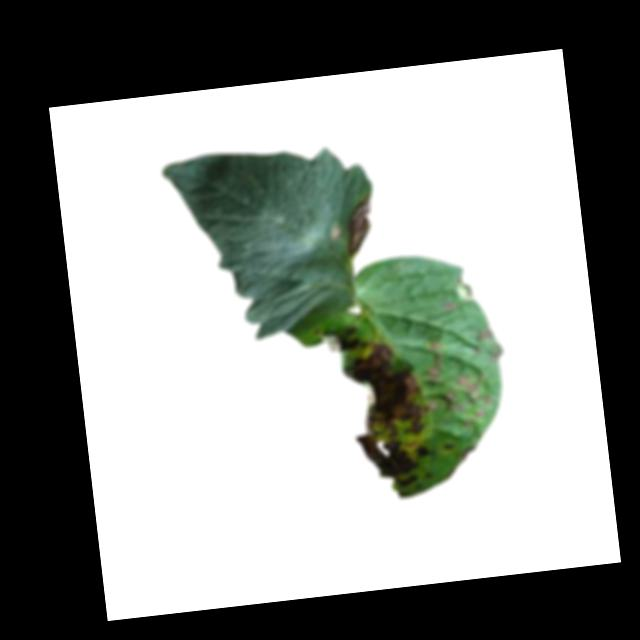Early_blight: (321, 321, 439, 495), (339, 193, 381, 258), (425, 339, 446, 384), (458, 372, 481, 394), (445, 388, 461, 414), (477, 325, 495, 341), (442, 439, 457, 451)
